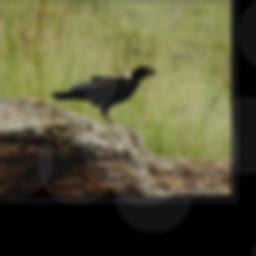Crow: (49, 65, 158, 124)
